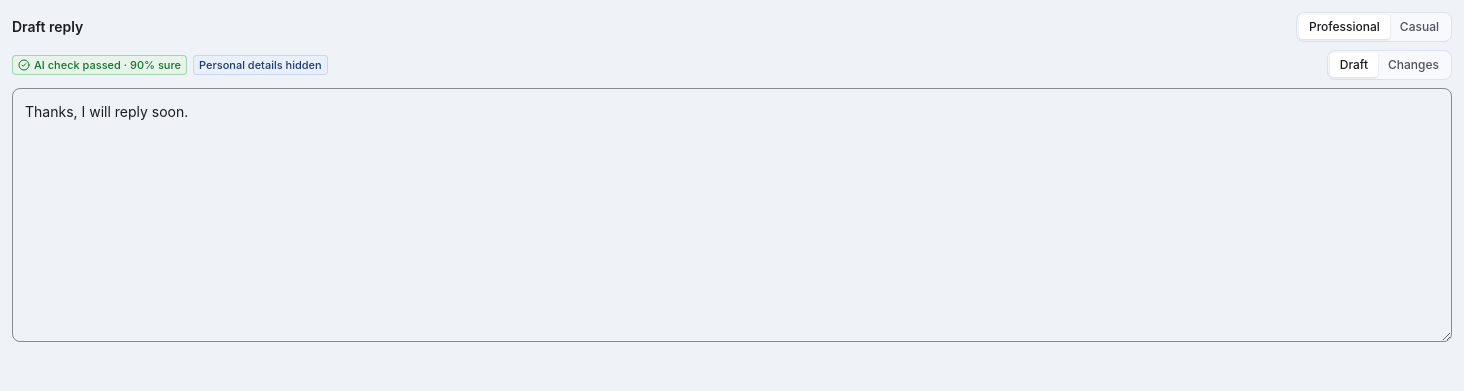
Test case: the Changes view (#149) › marks the reader's edits against the AI draft, read-only
The width and height of the screenshot is (1464, 391).
Replace the text in the text box with "Thanks, I will reply tomorrow." at (732, 215), box [12, 88, 1452, 342]
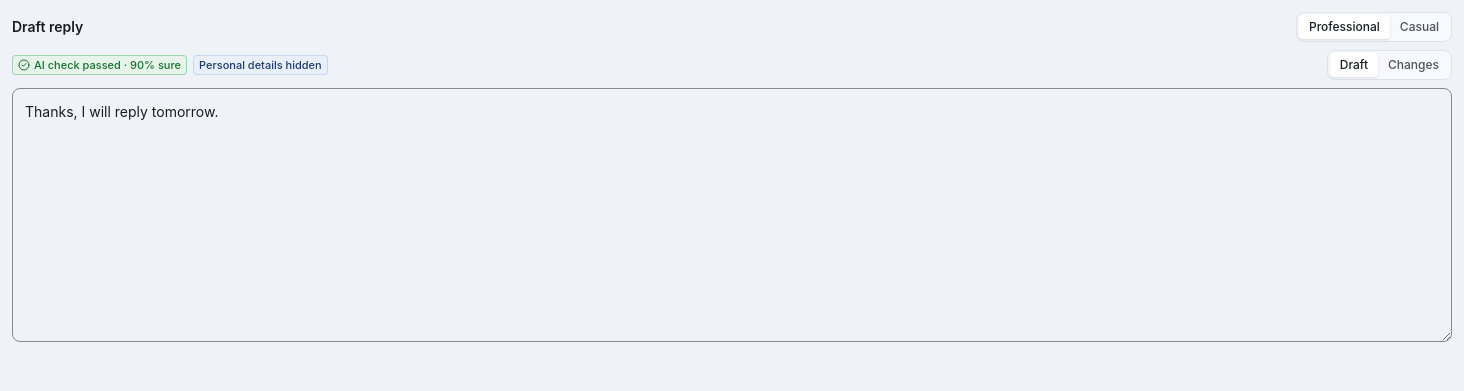
Click the button "Changes" at (1414, 65), box [1378, 53, 1449, 77]
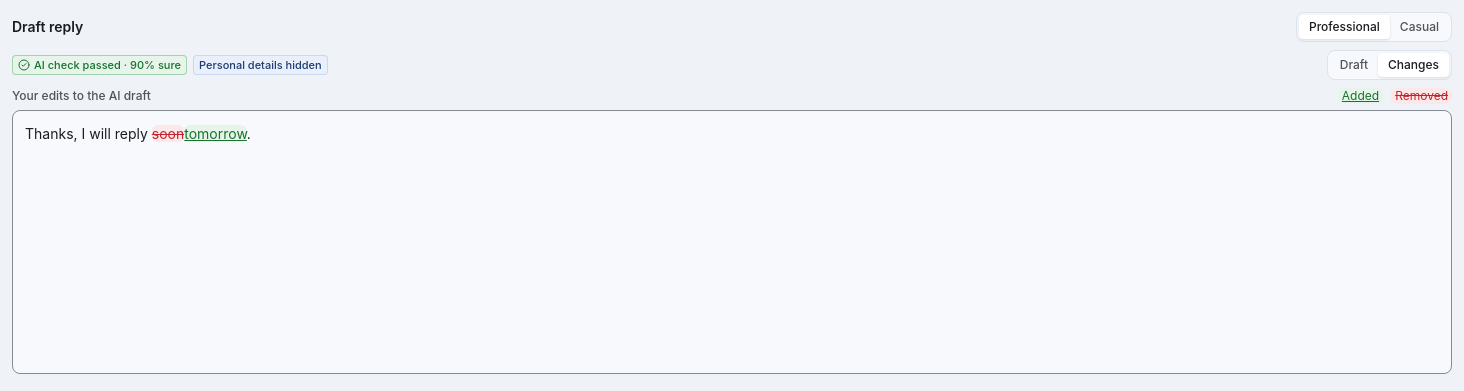
Expected: the text "Your edits to the AI draft" is shown, [12, 88, 151, 104]
